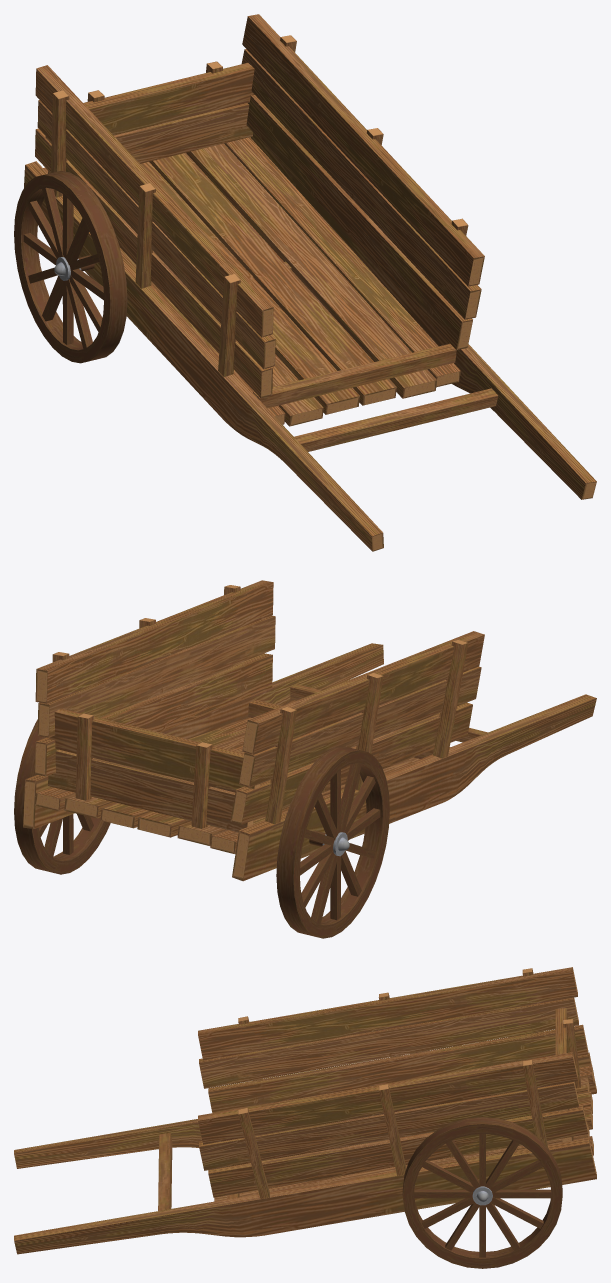
Rendered from wagon.glb.
The picture shows the model from 3 angles, top to bottom: view 1: azimuth 30°, elevation 25°; view 2: azimuth 150°, elevation 25°; view 3: azimuth 270°, elevation 25°; orthographic projection. The views are drawn at different scales.
Visible parts, largest first — view 1: Prop_Wagon; view 2: Prop_Wagon; view 3: Prop_Wagon.
Part boxes in pixels (x1,y1,x2,y2): Prop_Wagon: [14, 14, 596, 551]; Prop_Wagon: [14, 580, 596, 938]; Prop_Wagon: [14, 967, 596, 1268].
Size of the model in its own units: 1.95 by 1.53 by 4.02.
Materials: 1 (1 with a texture image).
